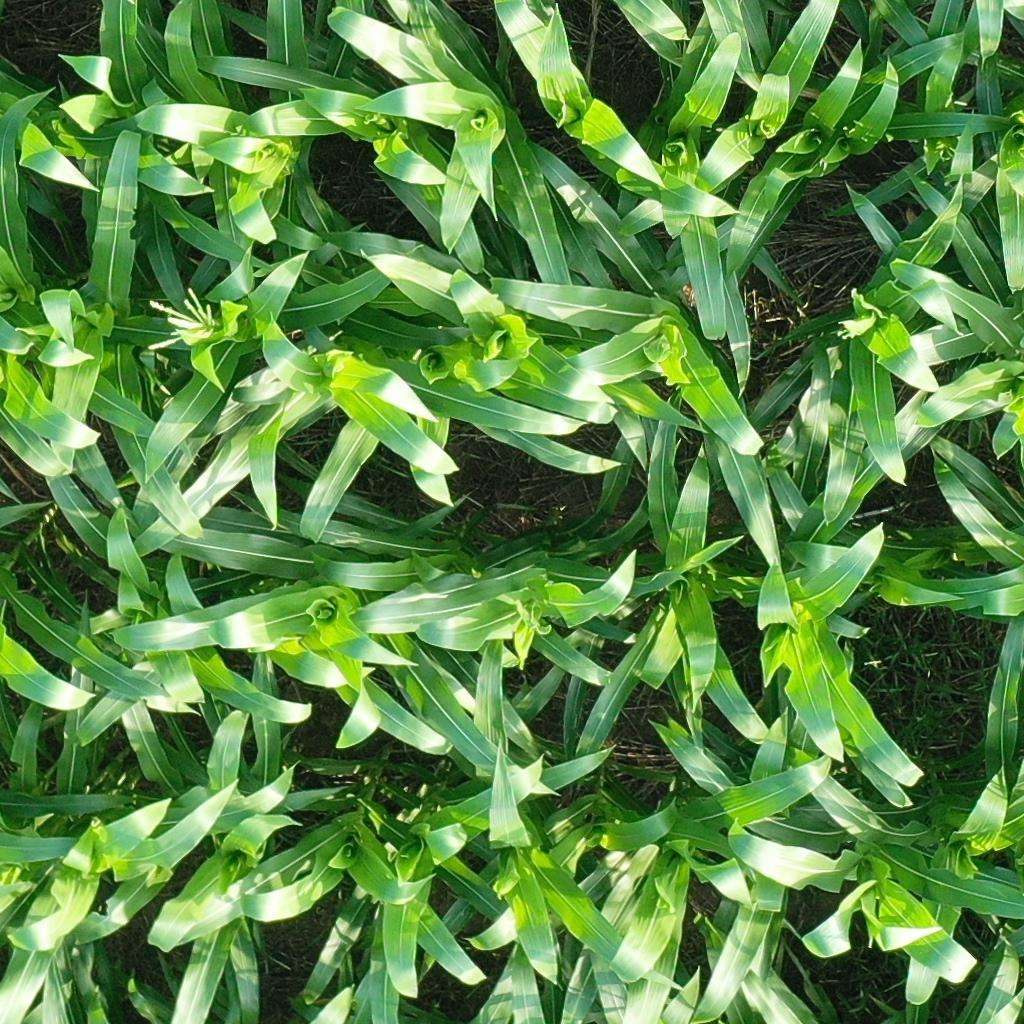Tassel: (138, 286, 228, 357)
